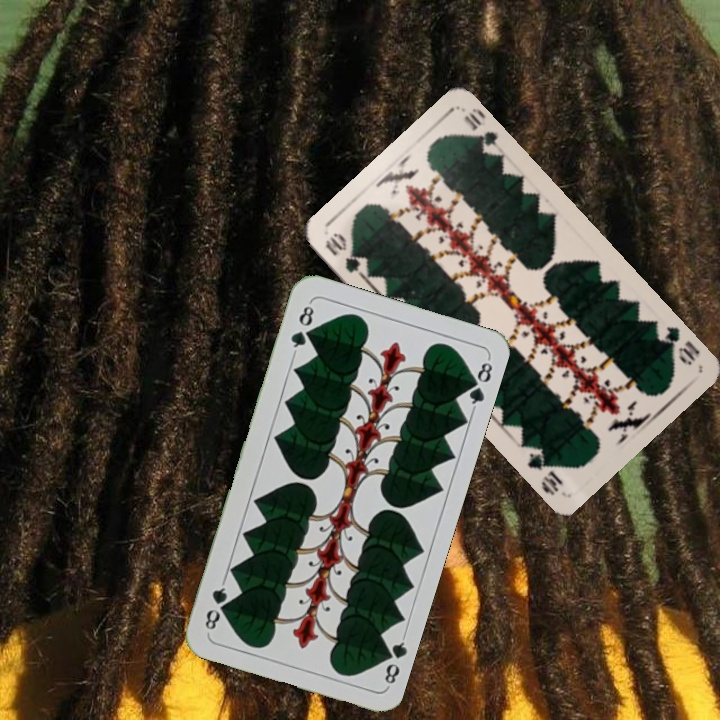G10: (321, 228, 367, 281), (651, 322, 703, 368)
G8: (376, 632, 409, 689), (286, 298, 317, 356)
